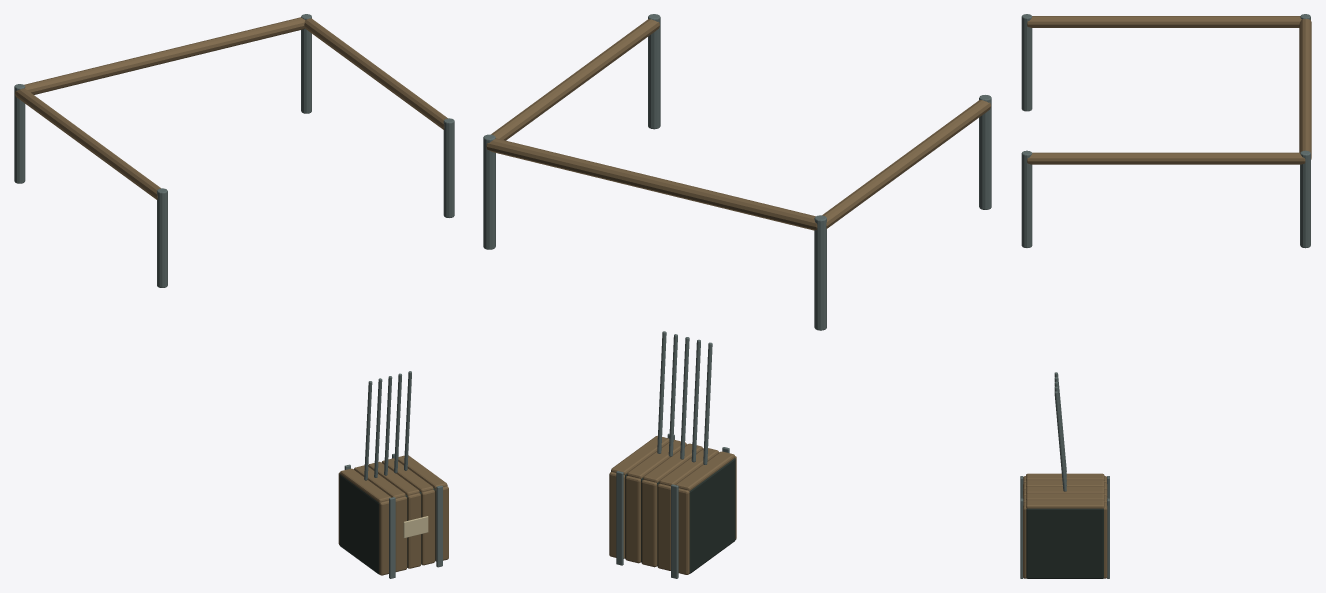
File: tower_dressing.glb
3 renders of one model, left to right at view 1: azimuth 30°, elevation 25°; view 2: azimuth 150°, elevation 25°; view 3: azimuth 270°, elevation 25°, orthographic. The views are drawn at different scales.
Visible parts, largest first — view 1: CampDressing; view 2: CampDressing; view 3: CampDressing.
Boxes of the visible parts, x1,y1,x2,y2 form: CampDressing: [14, 14, 454, 578]; CampDressing: [483, 14, 991, 578]; CampDressing: [1020, 14, 1311, 578].
Size of the model in its own units: 1.49 by 2.12 by 1.3.
